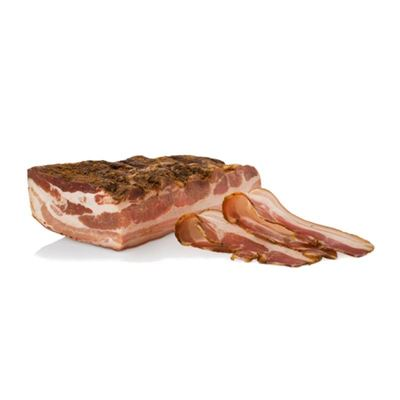bacon: (19, 146, 377, 287)
